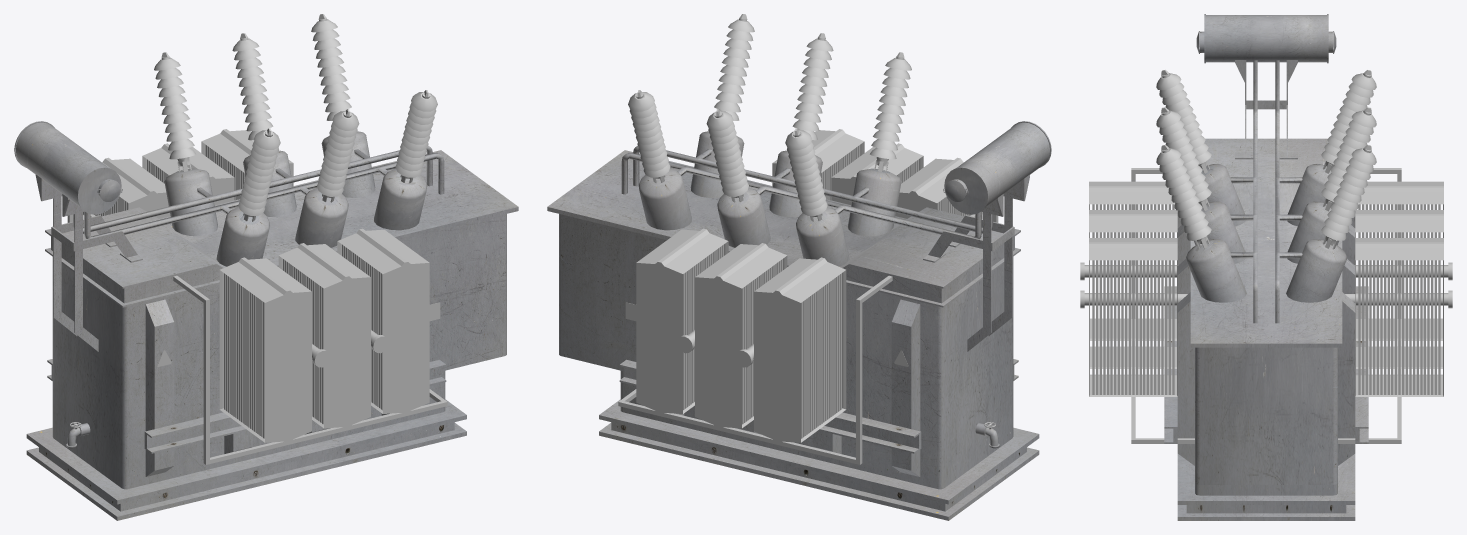
3 views of the same model, side by side, from view 1: azimuth 30°, elevation 25°; view 2: azimuth 150°, elevation 25°; view 3: azimuth 270°, elevation 25° (orthographic). The views are drawn at different scales.
Visible parts, largest first — view 1: transformer2_boxUV; view 2: transformer2_boxUV; view 3: transformer2_boxUV.
Boxes of the visible parts, left/top/right/bottom form: transformer2_boxUV: left=14, top=14, right=518, bottom=520; transformer2_boxUV: left=547, top=14, right=1051, bottom=520; transformer2_boxUV: left=1080, top=14, right=1452, bottom=520.
Bounding box in the file's own units: 5.52 × 4.4 × 4.2.
